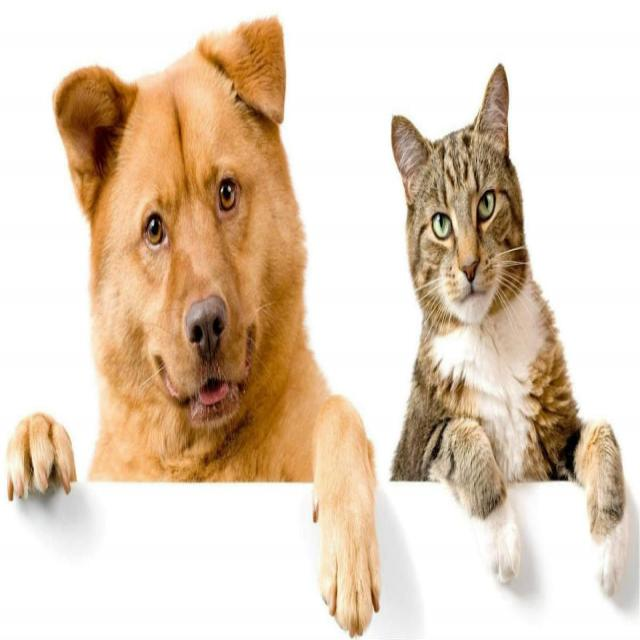cat: (385, 54, 640, 611)
dog: (7, 11, 384, 636)
